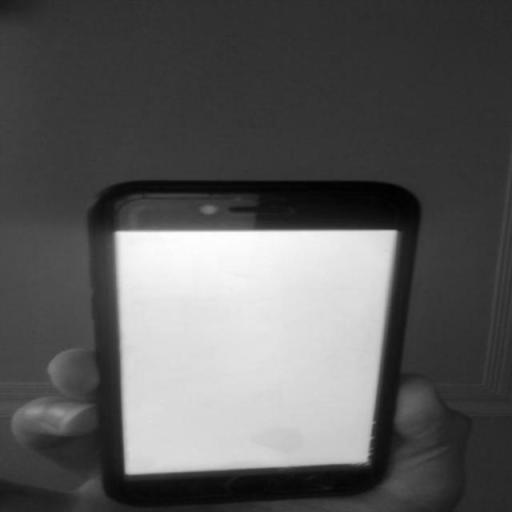phone: (93, 181, 417, 511)
